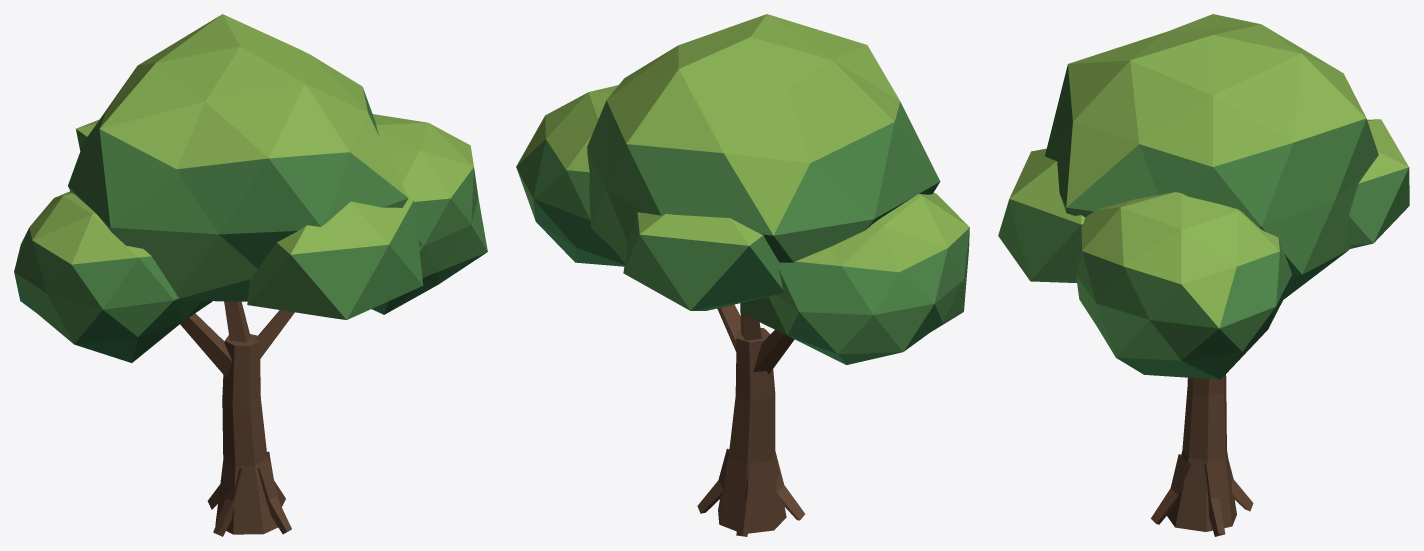
Rendered from tree_oak_b.glb.
The picture shows the model from 3 angles, left to right: view 1: azimuth 30°, elevation 25°; view 2: azimuth 150°, elevation 25°; view 3: azimuth 270°, elevation 25°; orthographic projection. The views are drawn at different scales.
Visible parts, largest first — view 1: Canopy, Trunk; view 2: Canopy, Trunk; view 3: Canopy, Trunk.
Boxes of the visible parts, x1,y1,x2,y2 form: Canopy: (14, 14, 487, 362); Trunk: (180, 301, 294, 536); Canopy: (516, 14, 969, 364); Trunk: (697, 304, 804, 536); Canopy: (998, 14, 1409, 379); Trunk: (1151, 374, 1253, 536).
Bounding box in the file's own units: 9.54 × 10.1 × 7.81.
